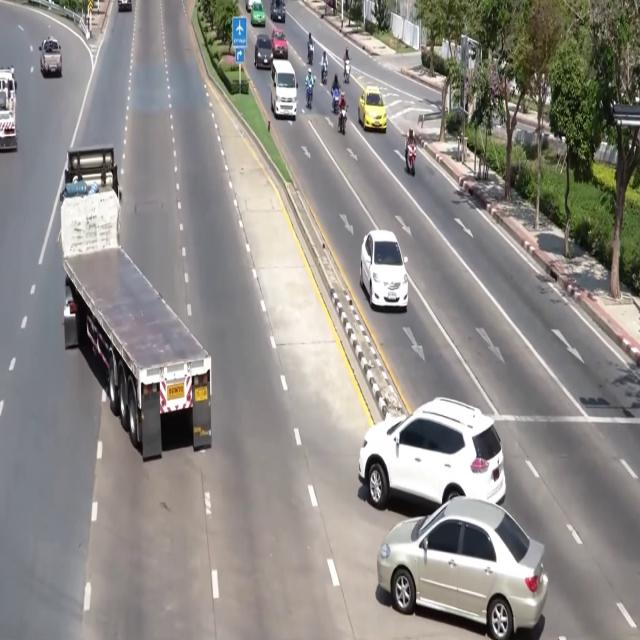car: (377, 497, 548, 639), (359, 398, 506, 509), (360, 230, 408, 310), (358, 86, 387, 132), (39, 38, 62, 77), (254, 34, 272, 68), (271, 29, 287, 59), (251, 0, 265, 26), (270, 0, 285, 23), (118, 0, 132, 12), (246, 0, 252, 13)
scooty: (406, 144, 416, 175), (338, 107, 347, 135), (332, 88, 338, 114), (344, 59, 350, 83), (306, 87, 312, 109), (321, 64, 327, 84), (321, 66, 327, 84), (308, 44, 313, 65)
truck: (59, 147, 211, 460), (0, 67, 17, 150)
